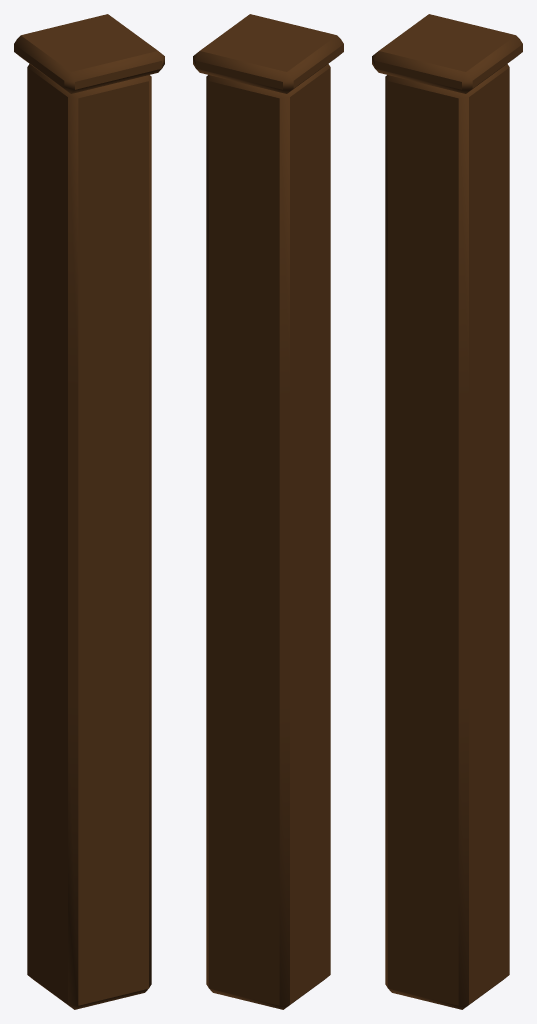
Rendered from gelaender_pfosten.glb.
3 renders of one model, left to right at view 1: azimuth 30°, elevation 25°; view 2: azimuth 150°, elevation 25°; view 3: azimuth 330°, elevation 25°, orthographic.
Parts seen in each view (by area): view 1: gelaender_pfosten; view 2: gelaender_pfosten; view 3: gelaender_pfosten.
Boxes of the visible parts, x1,y1,x2,y2 form: gelaender_pfosten: (14,14,164,1009); gelaender_pfosten: (193,14,343,1009); gelaender_pfosten: (372,14,522,1009).
Size of the model in its own units: 0.12 by 1.08 by 0.12.
